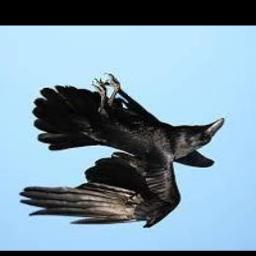Crow: (18, 73, 223, 230)
